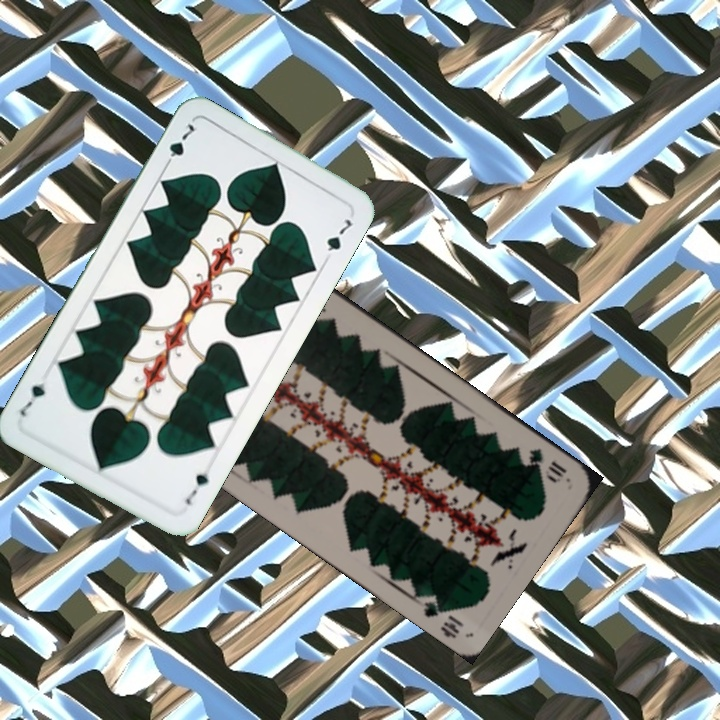G10: (524, 444, 569, 485)
G7: (159, 119, 197, 171), (181, 468, 212, 509)
